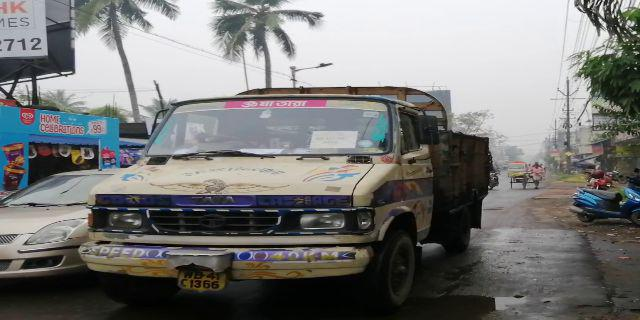Car: (2, 170, 118, 281)
Truck: (87, 94, 500, 298)
